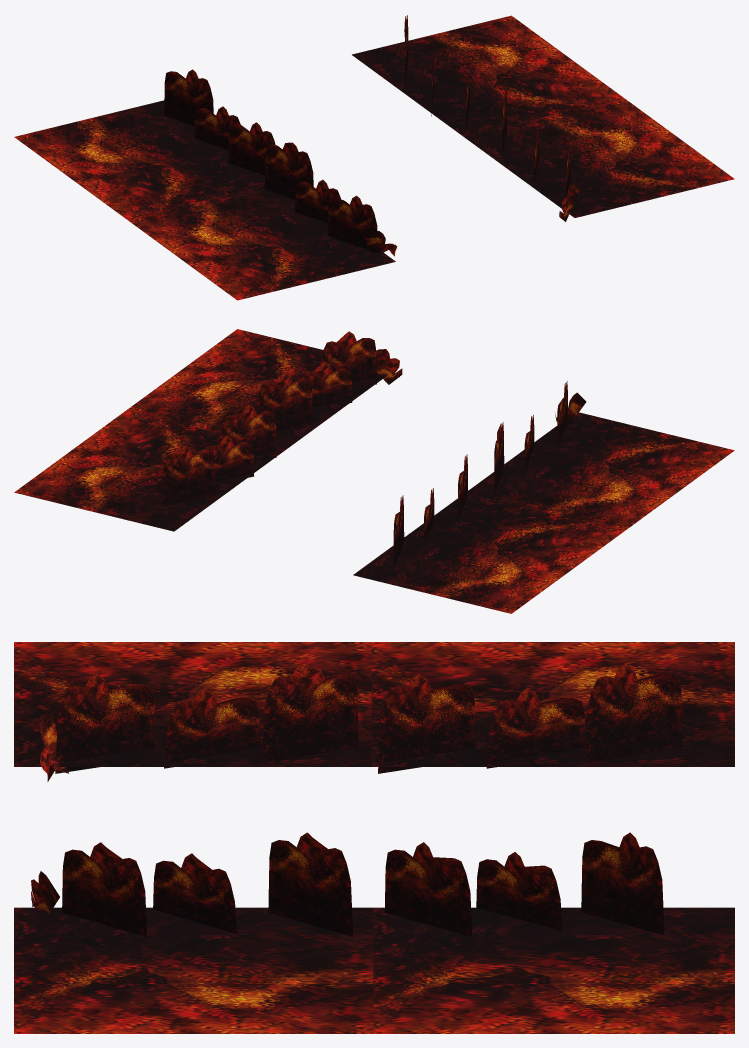
File: as_oldcity_far.fbx
3 views of the same model, one above another, from view 1: azimuth 30°, elevation 25°; view 2: azimuth 150°, elevation 25°; view 3: azimuth 270°, elevation 25° (orthographic). The views are drawn at different scales.
Parts seen in each view (by area): view 1: as_oldcity_far; view 2: as_oldcity_far; view 3: as_oldcity_far.
Boxes of the visible parts, x1=… form: as_oldcity_far: x1=14, y1=15, x2=734, y2=300; as_oldcity_far: x1=14, y1=329, x2=734, y2=613; as_oldcity_far: x1=14, y1=642, x2=734, y2=1033.
Bounding box in the file's own units: 12856 × 1674 × 10000.
